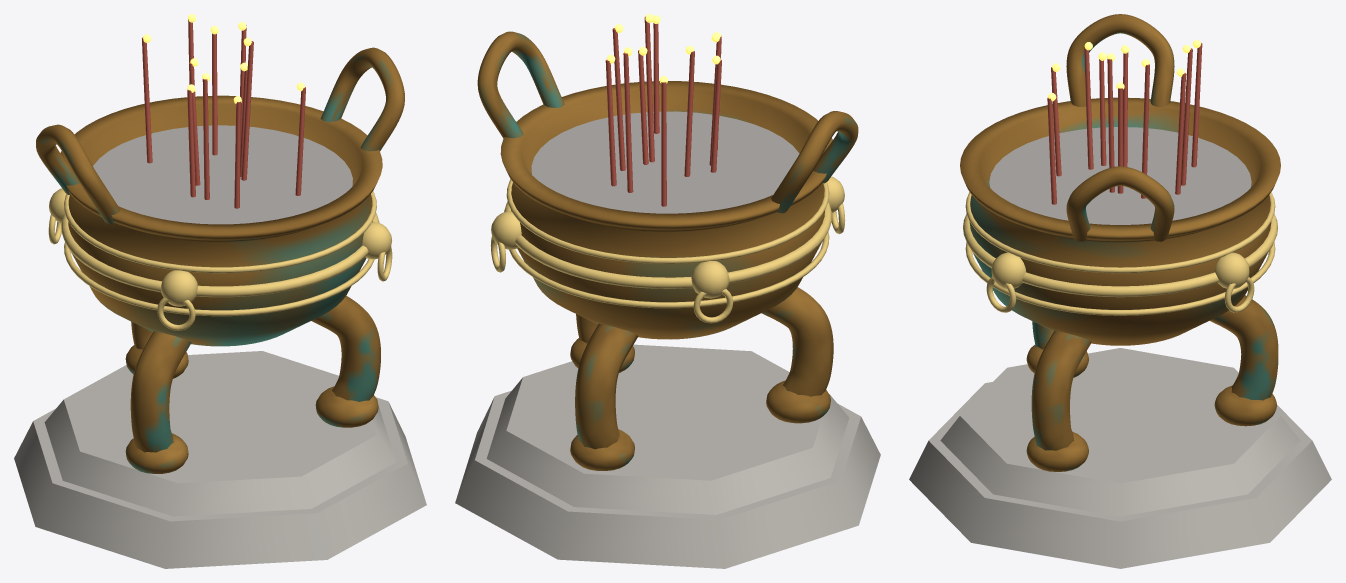
File: sample-censer.glb
The picture shows the model from 3 angles, left to right: view 1: azimuth 30°, elevation 25°; view 2: azimuth 150°, elevation 25°; view 3: azimuth 270°, elevation 25°; orthographic projection. The views are drawn at different scales.
Visible parts, largest first — view 1: sample-censer; view 2: sample-censer; view 3: sample-censer.
Boxes of the visible parts, bbox=[...] form: sample-censer: bbox=[14, 14, 426, 568]; sample-censer: bbox=[455, 14, 880, 568]; sample-censer: bbox=[909, 14, 1331, 568].
Size of the model in its own units: 2.16 by 2.46 by 2.16.
6 materials, 1 textured.
